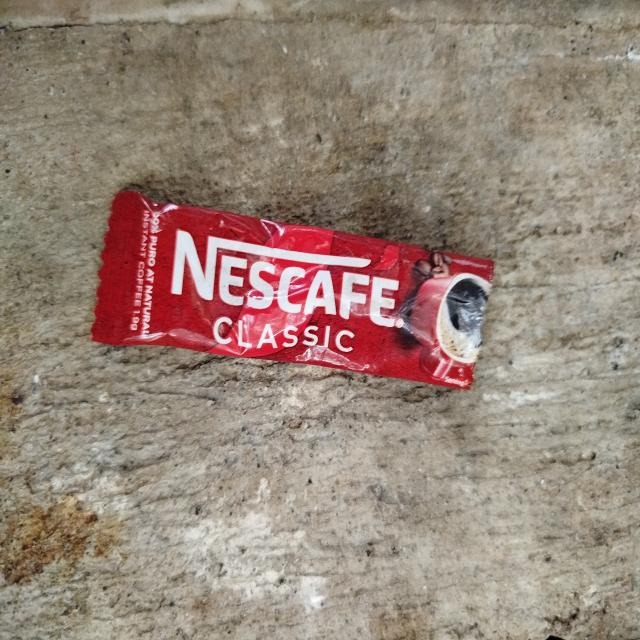residual: (86, 171, 503, 410)
